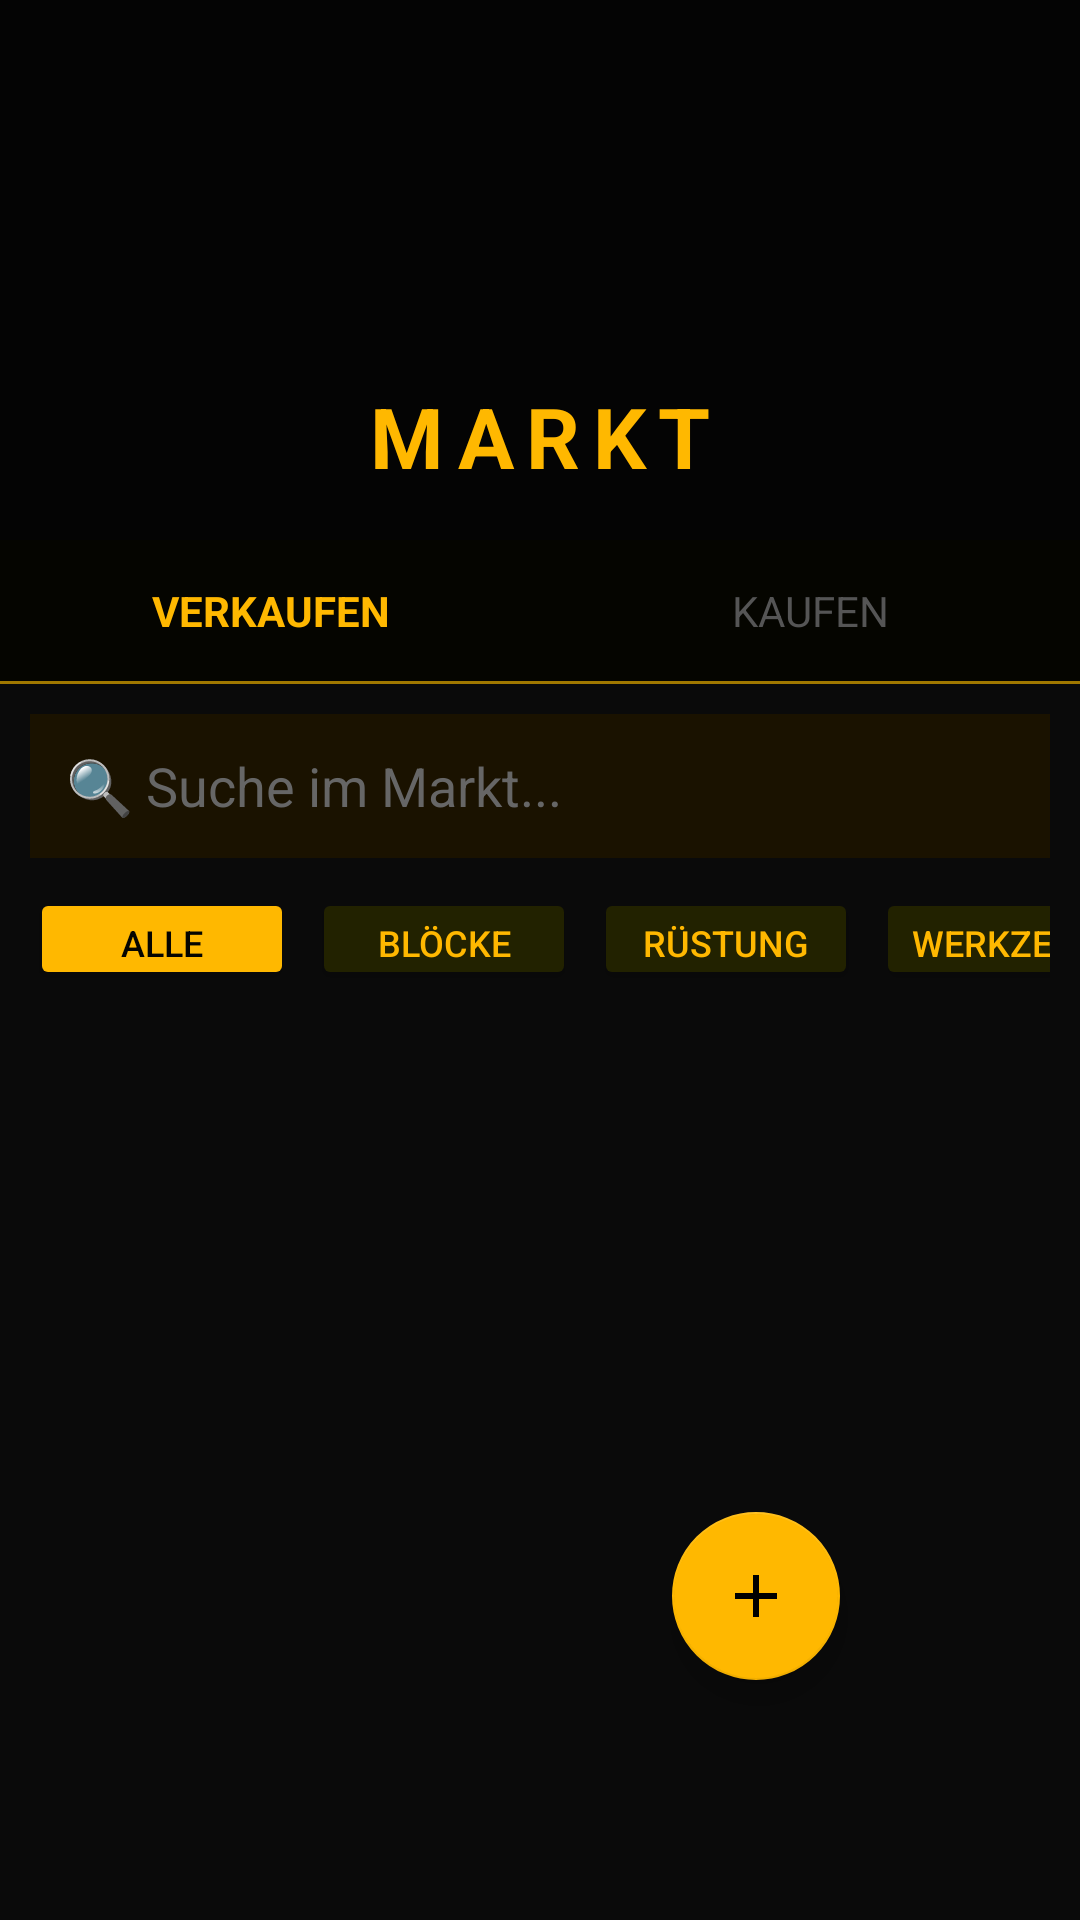

Icons on this 1080x1920 Android screen, each with its box as rect(x1, y1, x2, y2):
add: rect(672, 1512, 840, 1680)
